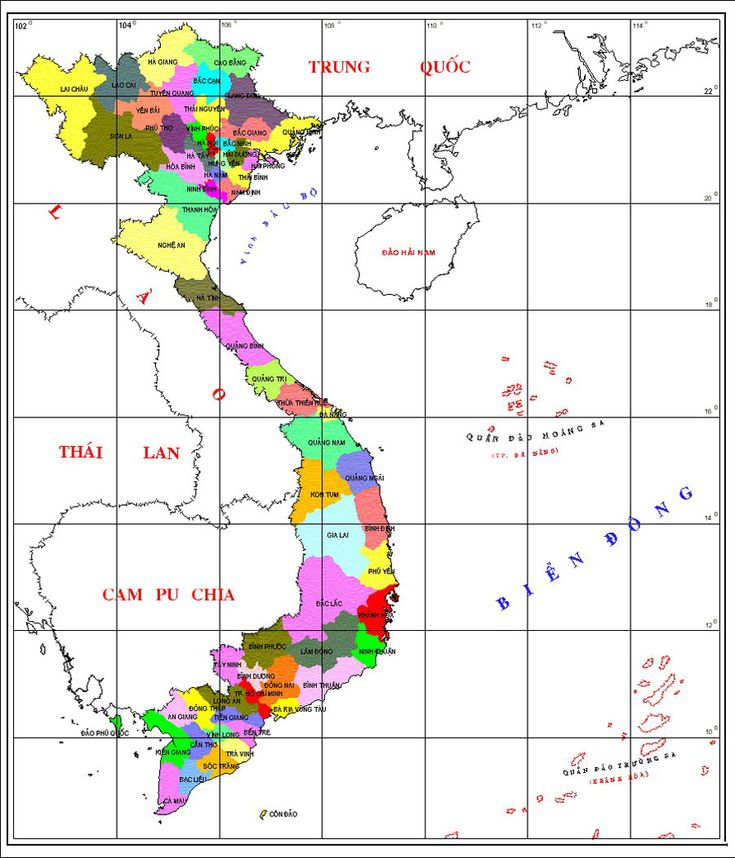Island: (507, 655, 681, 813), (465, 351, 603, 461)
